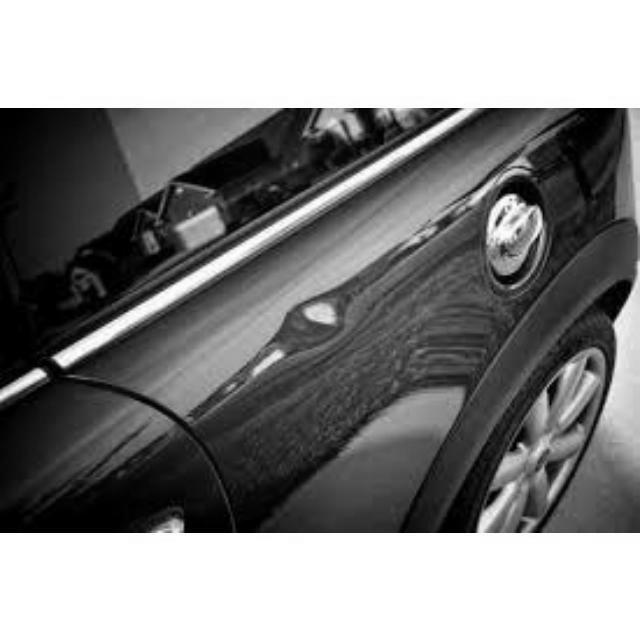doorouter-dent: (194, 266, 429, 475)
